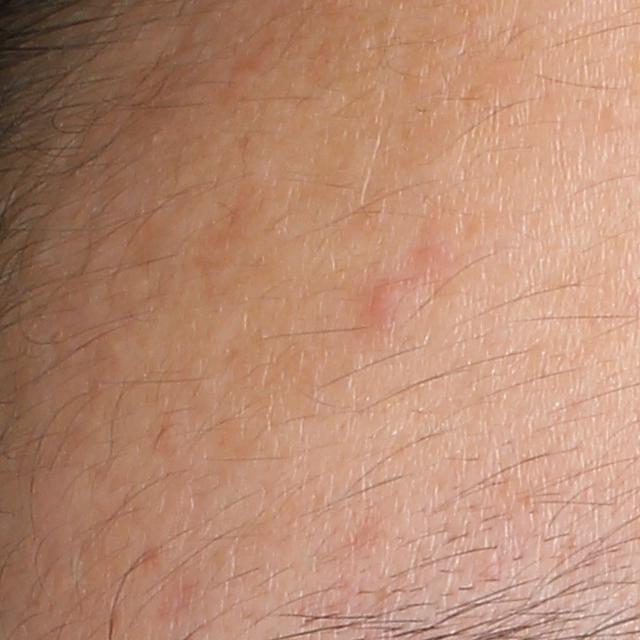papule: (361, 277, 421, 338)
